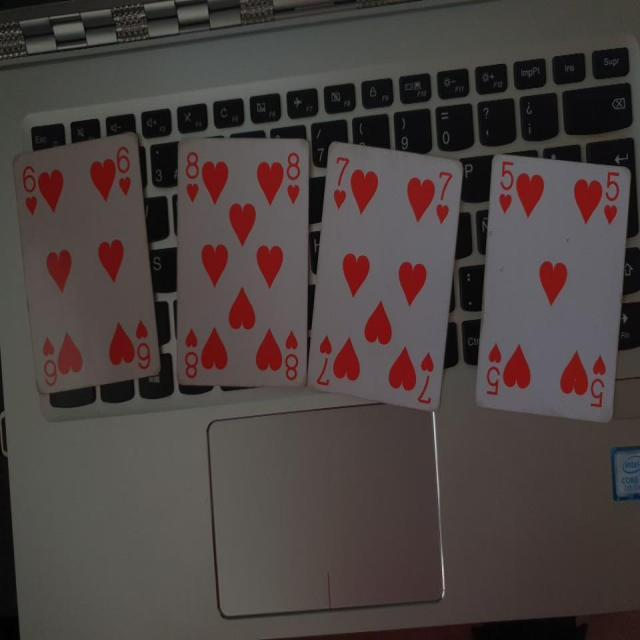5 of hearts: (472, 149, 638, 424)
6 of hearts: (13, 130, 165, 403)
7 of hearts: (304, 140, 470, 416)
8 of hearts: (169, 132, 314, 404)
